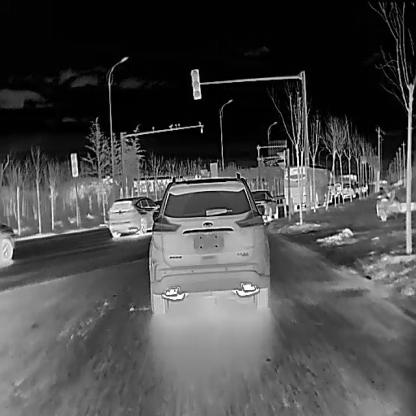bus: (282, 166, 334, 210)
car: (147, 172, 270, 315), (107, 195, 161, 237), (375, 184, 415, 220), (249, 188, 278, 223), (341, 182, 355, 197), (333, 181, 342, 196), (352, 182, 360, 193), (360, 183, 367, 192)
